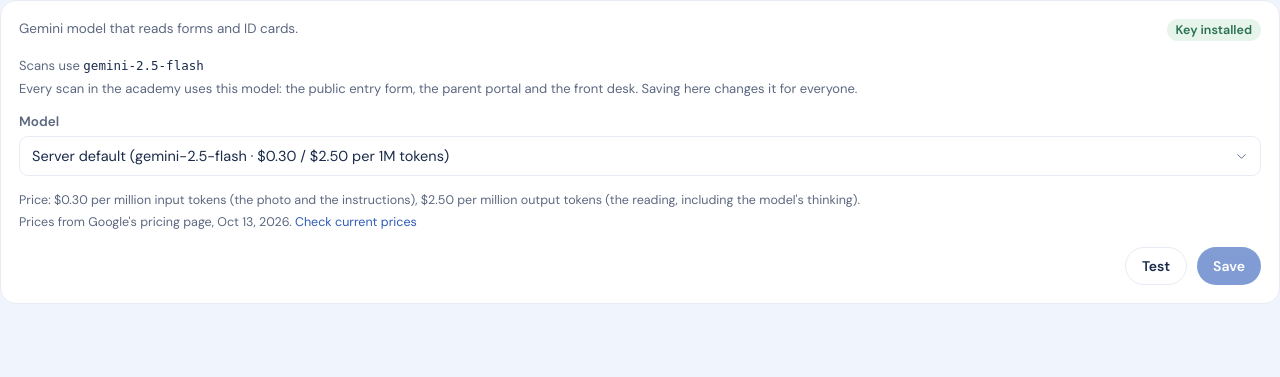
Test: the scanning card › says which model is failing, and why
The image size is (1280, 377).
Step 1. Click the button "Test" → point(1156, 266), box [1125,247,1187,285]
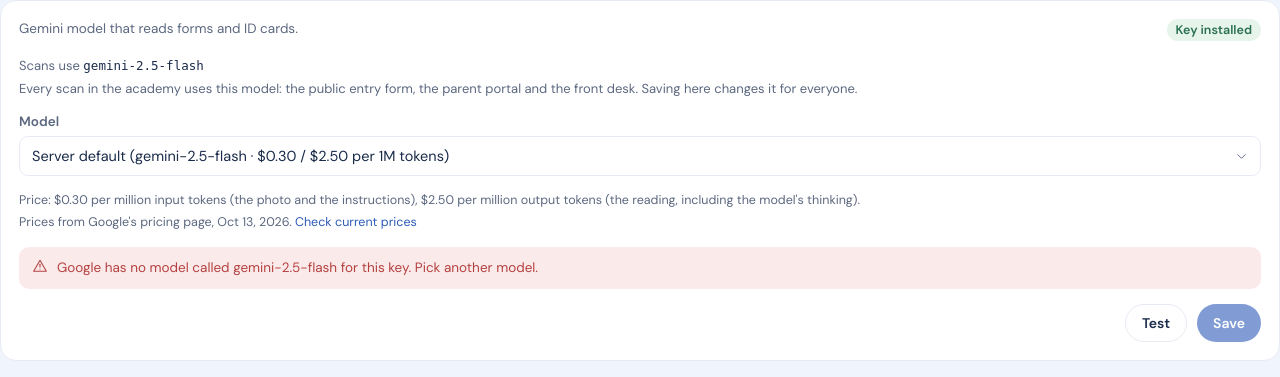
Expected: the message shows "Google has no model called gemini-2.5-flash", [57,259,538,276]
